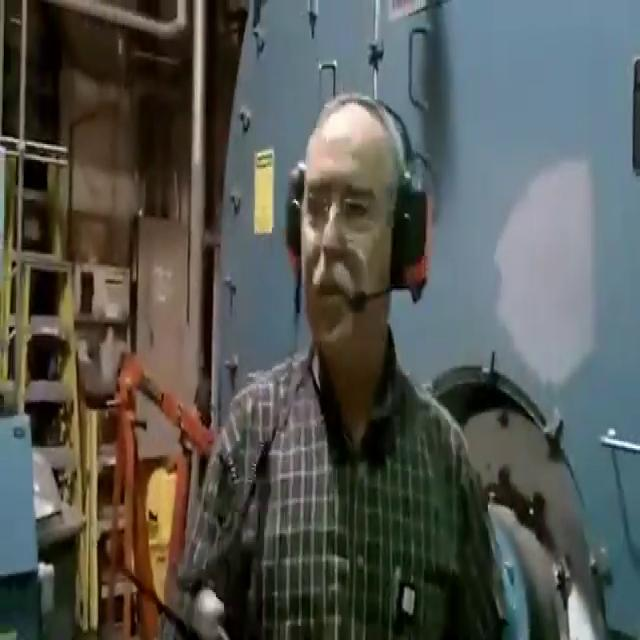earmuff: (391, 176, 434, 308), (284, 156, 308, 270)
